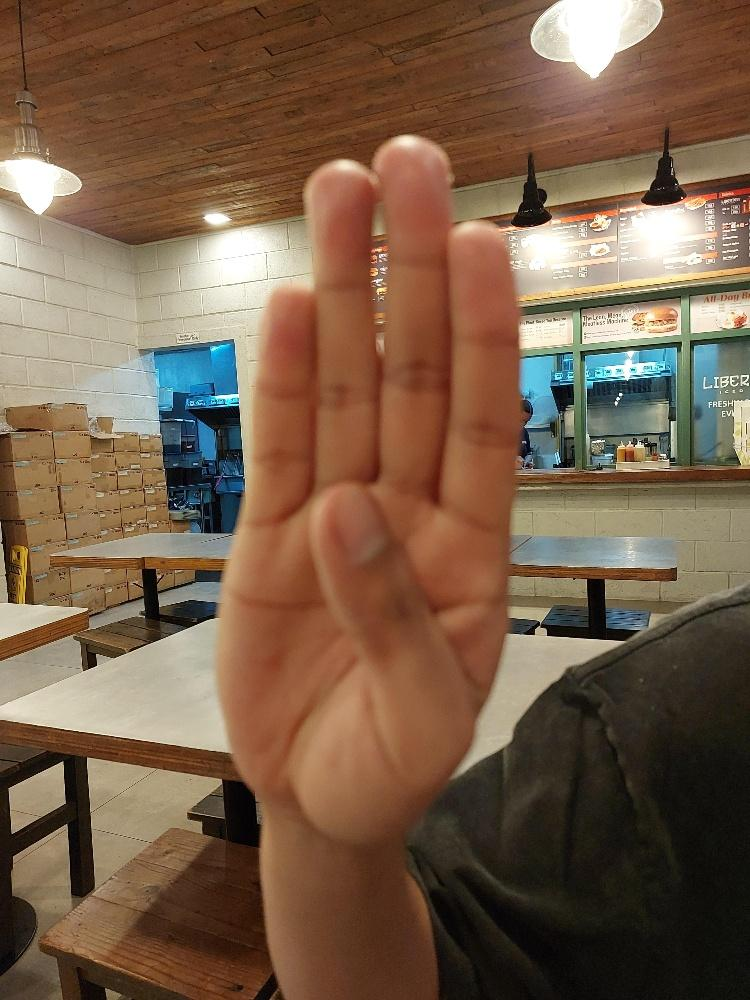b: (210, 130, 526, 840)
